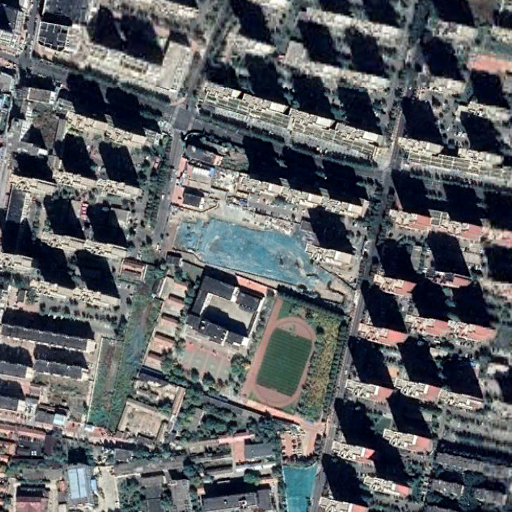cw: (178, 218, 338, 292)
